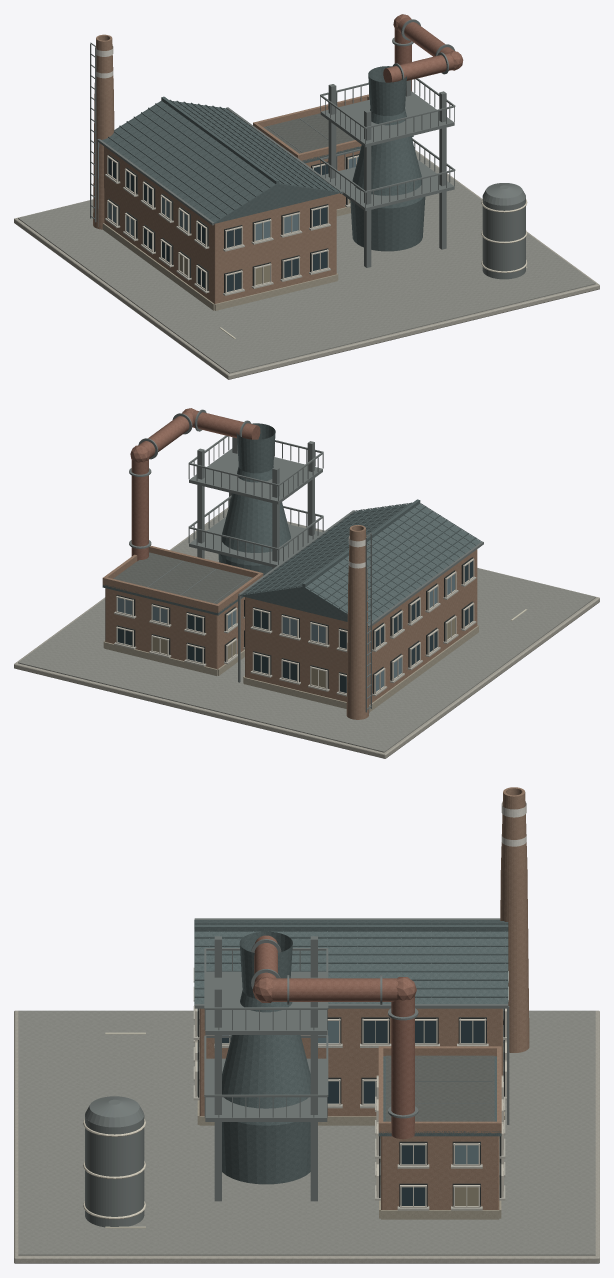
File: EXP_FACTORY_STEEL.glb
The picture shows the model from 3 angles, top to bottom: view 1: azimuth 30°, elevation 25°; view 2: azimuth 150°, elevation 25°; view 3: azimuth 270°, elevation 25°; orthographic projection. The views are drawn at different scales.
Visible parts, largest first — view 1: EXP_FACTORY_STEEL_Visual; view 2: EXP_FACTORY_STEEL_Visual; view 3: EXP_FACTORY_STEEL_Visual.
Part boxes in pixels (x1=…): EXP_FACTORY_STEEL_Visual: x1=14, y1=14, x2=599, y2=379; EXP_FACTORY_STEEL_Visual: x1=14, y1=408, x2=599, y2=758; EXP_FACTORY_STEEL_Visual: x1=14, y1=787, x2=599, y2=1263.
Size of what is drawn, in the model's own units: 7.92 by 3.94 by 7.92.
18 materials, 11 textured.
